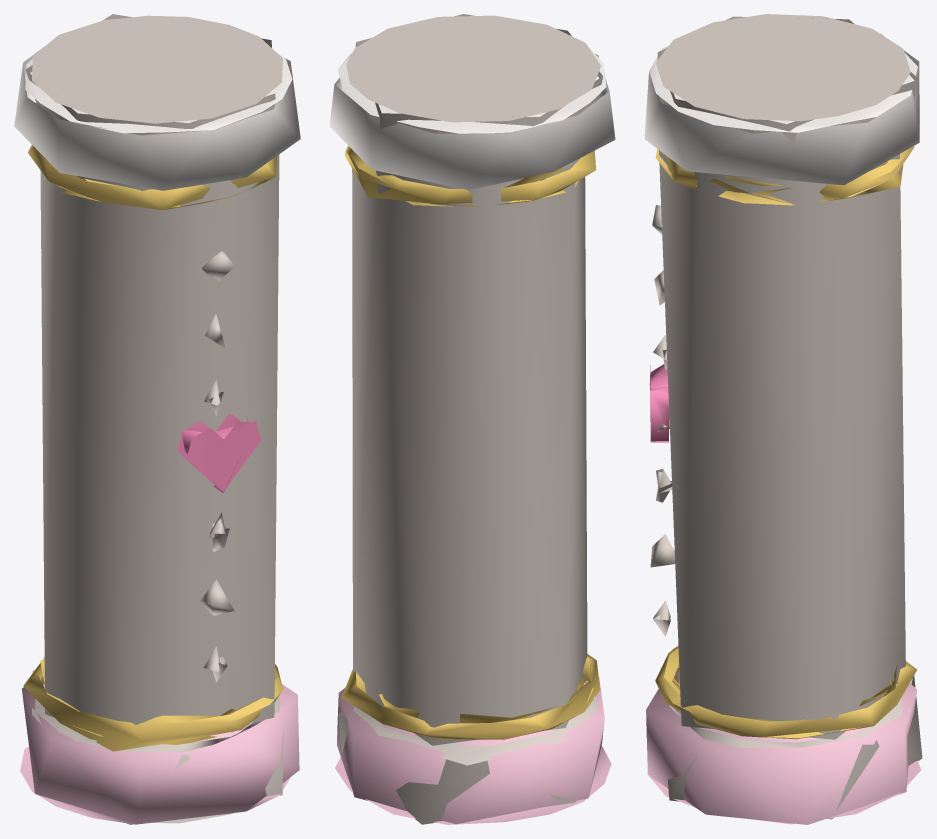
File: lod_wall_corner.glb
The picture shows the model from 3 angles, left to right: view 1: azimuth 30°, elevation 25°; view 2: azimuth 150°, elevation 25°; view 3: azimuth 270°, elevation 25°; orthographic projection.
Visible parts, largest first — view 1: wall_corner; view 2: wall_corner; view 3: wall_corner.
Boxes of the visible parts, x1=… form: wall_corner: x1=14, y1=14, x2=300, y2=824; wall_corner: x1=329, y1=14, x2=615, y2=824; wall_corner: x1=644, y1=14, x2=922, y2=824.
Bounding box in the file's own units: 1.46 × 4 × 1.44.
